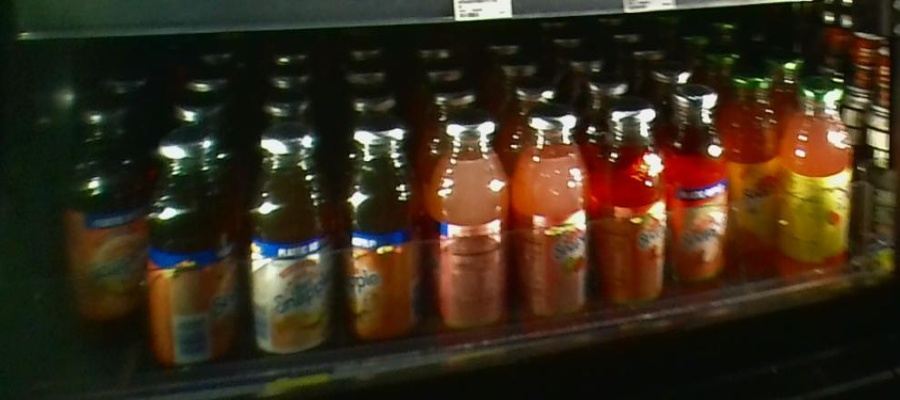bottle: (241, 113, 335, 371), (145, 122, 238, 369), (335, 106, 422, 362), (425, 111, 510, 351), (513, 103, 594, 329), (66, 91, 140, 325), (596, 98, 668, 322), (787, 67, 853, 273), (667, 75, 726, 287), (729, 63, 782, 276)
